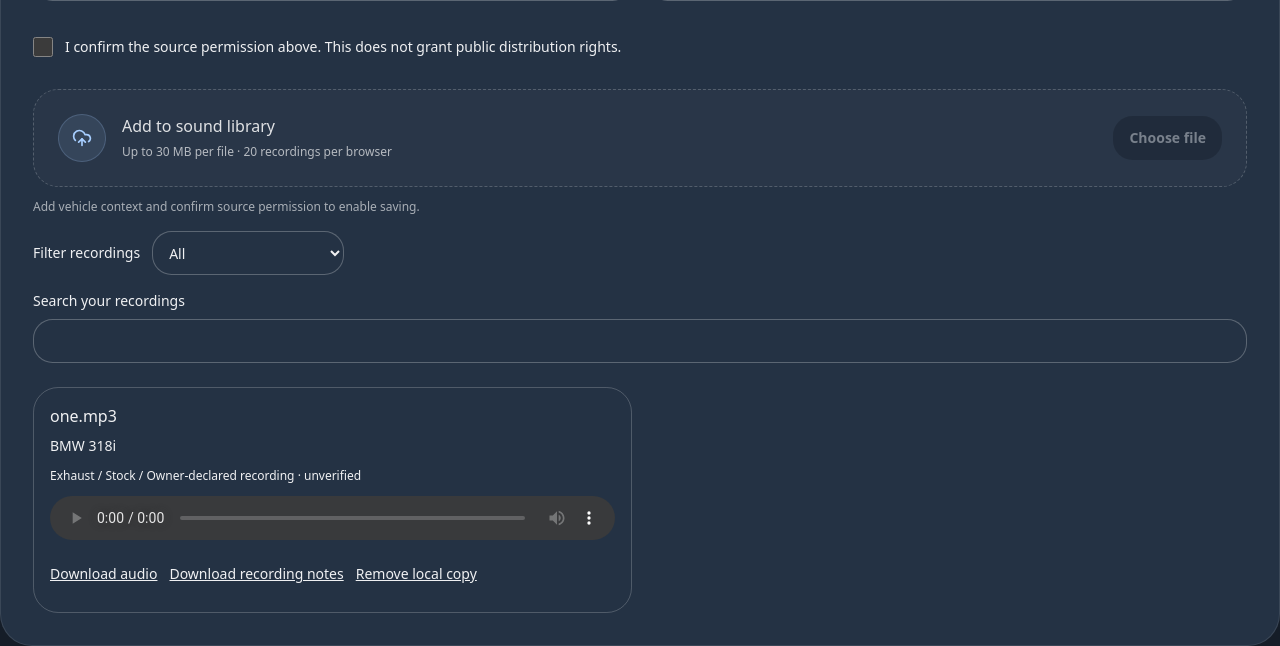
Test: personal recording archive › requires confirmation to remove a saved copy and keeps the card on failure
This screenshot has width=1280, height=646.
(page scrolled)
Check: the heading "one.mp3" is shown, box [50,405,117,427]
Click the button "Remove local copy" at (416, 574), box [356,552,477,596]
(page scrolled)
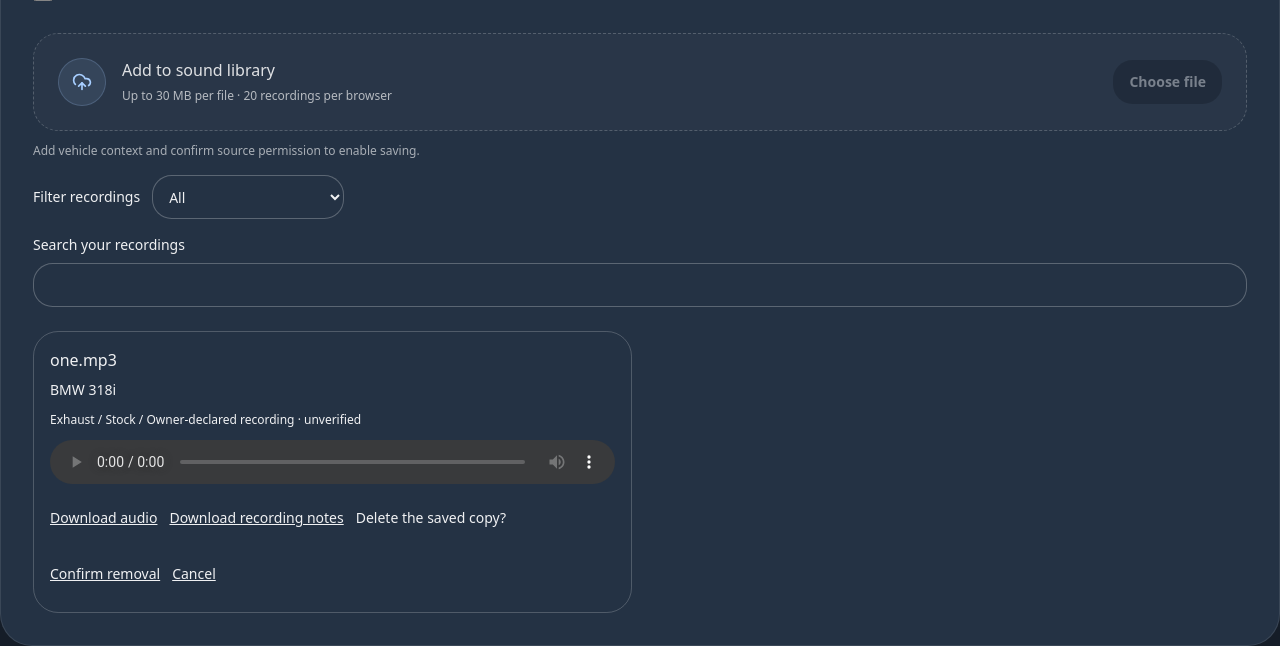
Click the button "Cancel" at (194, 574), box [172,552,216,596]
(page scrolled)
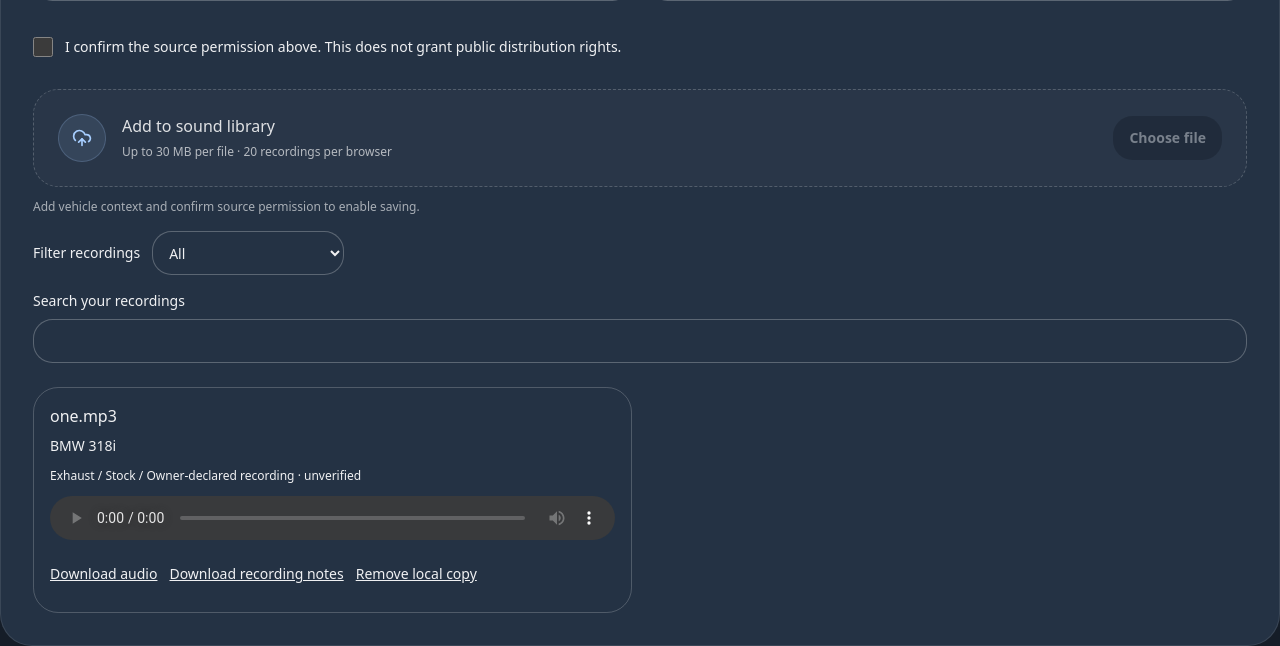
Check: the heading "one.mp3" is shown, box [50,405,117,427]
Click the button "Remove local copy" at (416, 574), box [356,552,477,596]
(page scrolled)
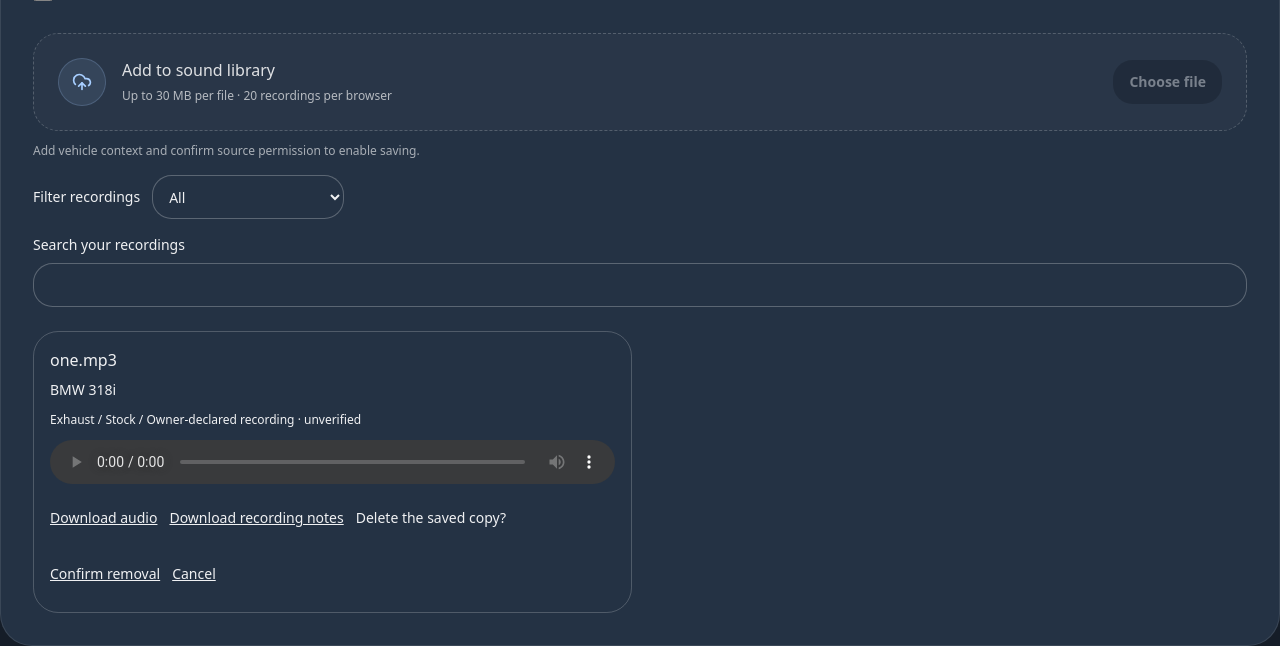
Click the button "Confirm removal" at (105, 574), box [50,552,160,596]
(page scrolled)
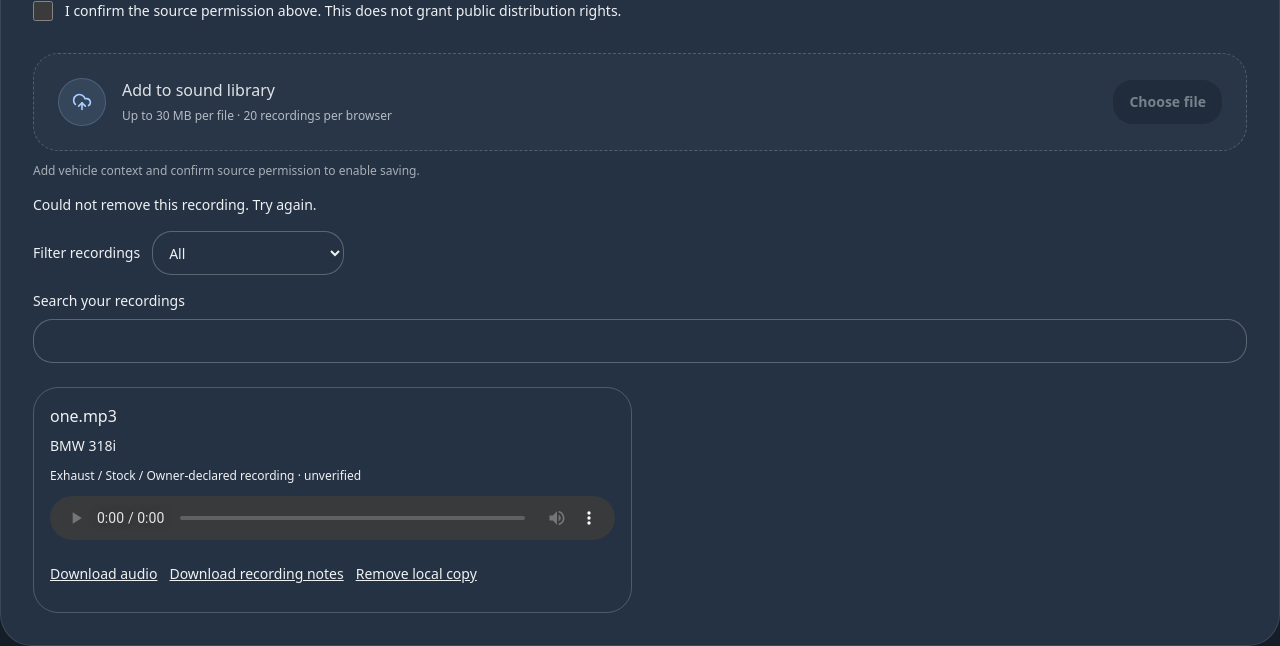
Check: the heading "one.mp3" is shown, box [50,405,117,427]
Check: the text "Could not remove this recording. Try again." is shown, box [33,195,317,214]
